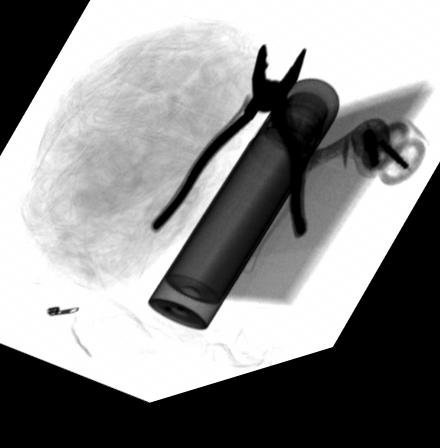Pliers: (148, 58, 307, 257)
